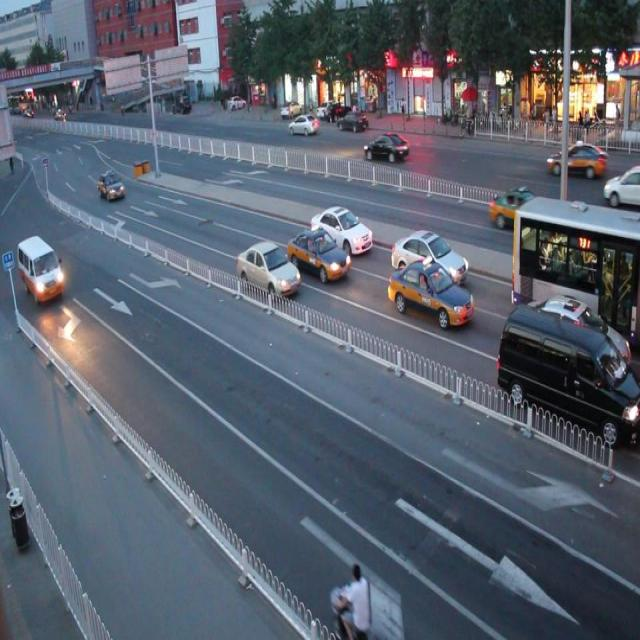car: (516, 294, 628, 392), (388, 260, 474, 330), (390, 228, 467, 283), (237, 240, 299, 298), (289, 228, 350, 283), (313, 203, 371, 256), (490, 187, 545, 228), (546, 143, 603, 178), (601, 166, 640, 211), (364, 130, 409, 162)
truck: (496, 300, 640, 446)
van: (510, 193, 640, 350)
